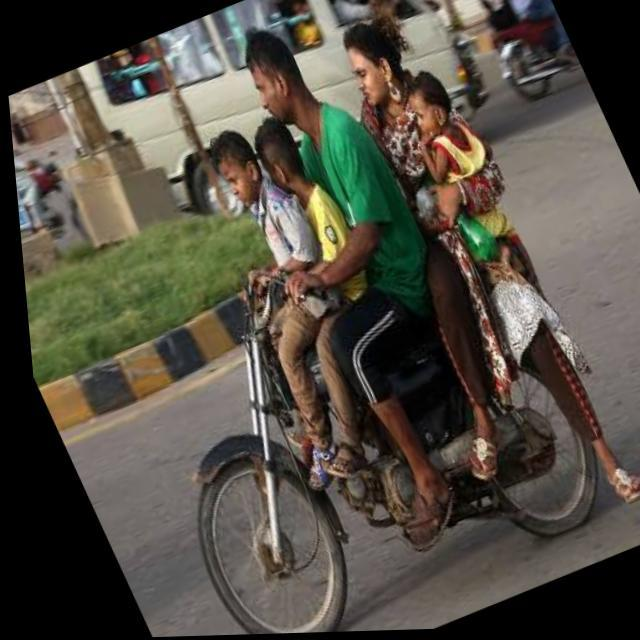Nonhelmet: (242, 22, 314, 128), (336, 15, 401, 113), (203, 126, 265, 210), (403, 63, 457, 153), (253, 117, 307, 192)
